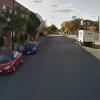Car: (1, 40, 26, 77)
